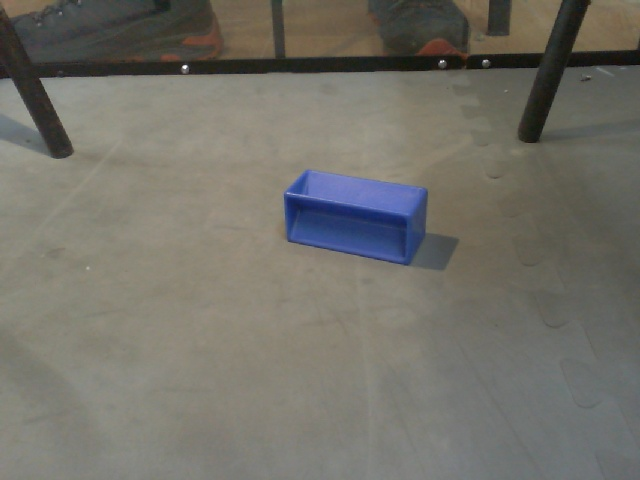BlueSample: (279, 166, 431, 268)
